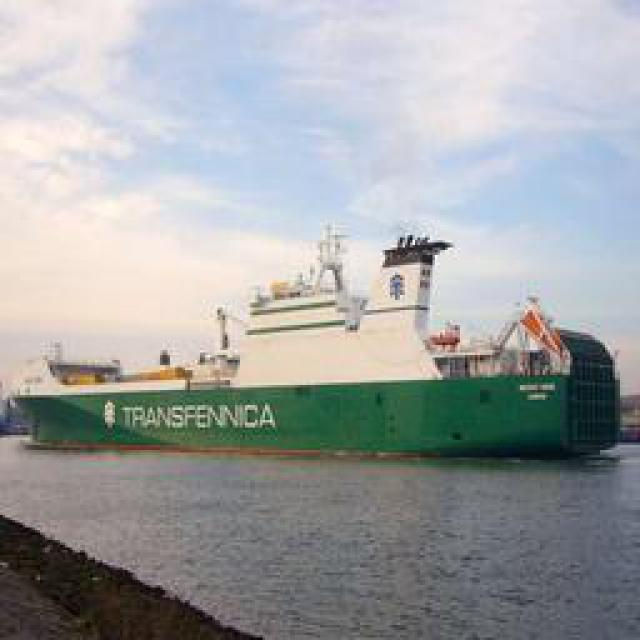Ship: (14, 237, 637, 455)
